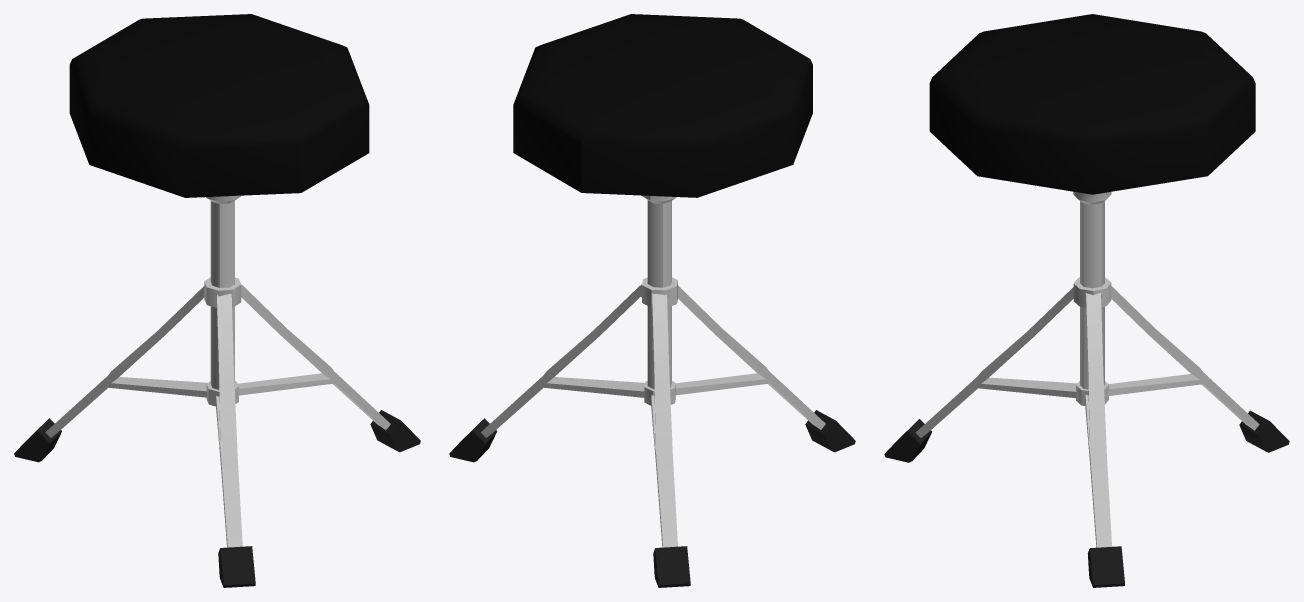
File: SM_Chair_4k.fbx
3 views of the same model, side by side, from view 1: azimuth 30°, elevation 25°; view 2: azimuth 150°, elevation 25°; view 3: azimuth 270°, elevation 25° (orthographic).
Parts seen in each view (by area): view 1: DrumChair_4k; view 2: DrumChair_4k; view 3: DrumChair_4k.
Boxes of the visible parts, <box> form: DrumChair_4k: <box>14,14,420,587</box>; DrumChair_4k: <box>449,14,855,587</box>; DrumChair_4k: <box>884,14,1289,587</box>.
Size of the model in its own units: 38.83 by 47.56 by 41.22.
Materials: 1 (1 with a texture image).
